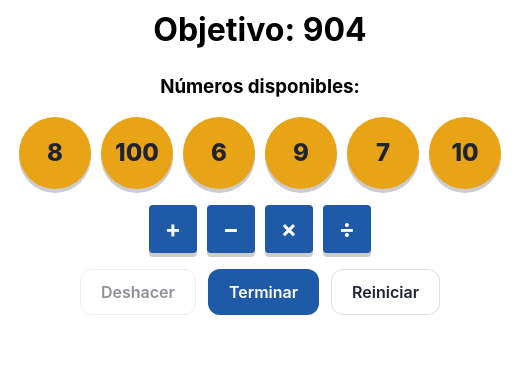
NumbersGame › shows a message when a division is not exact
Click the button "8". click: x=55, y=153
box: [19,117,91,189]
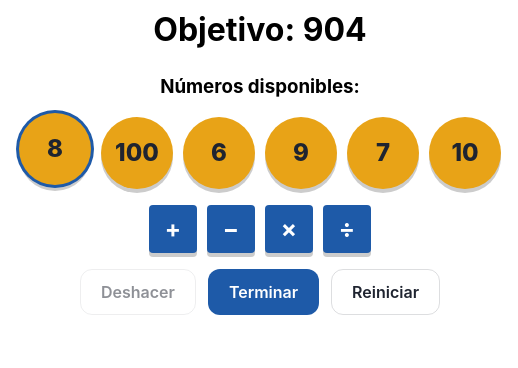
Click the button named "Dividir". click: x=347, y=229
box: [323,205,371,253]
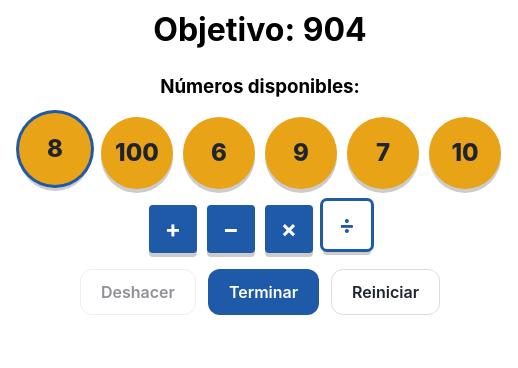
Click the button "100". click: x=137, y=153
box: [101,117,173,189]
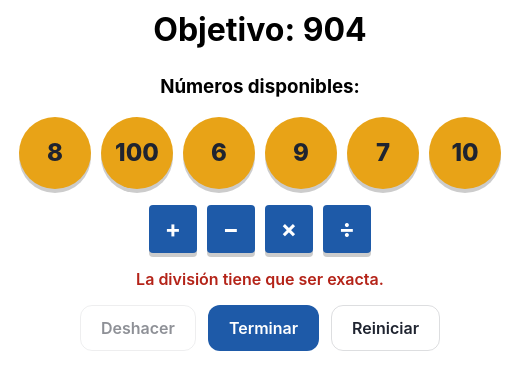
expect the message shows "exacta": met, box [136,269,384,289]
